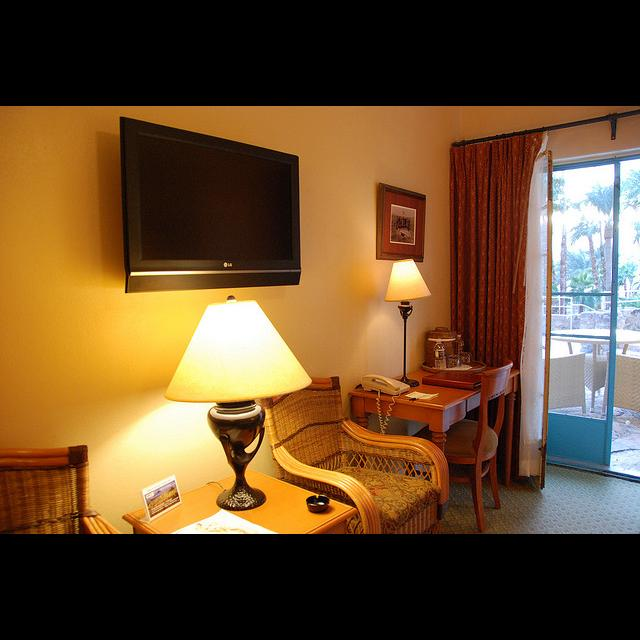Flat-Panel-TV: (121, 116, 302, 296)
